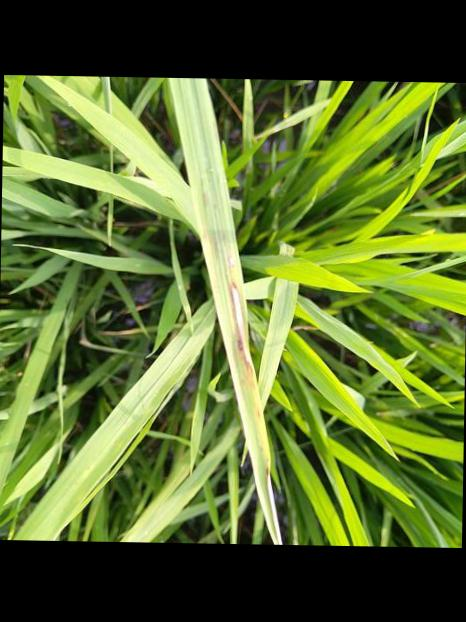Leaf Streak: (226, 219, 256, 390), (265, 464, 283, 545)
